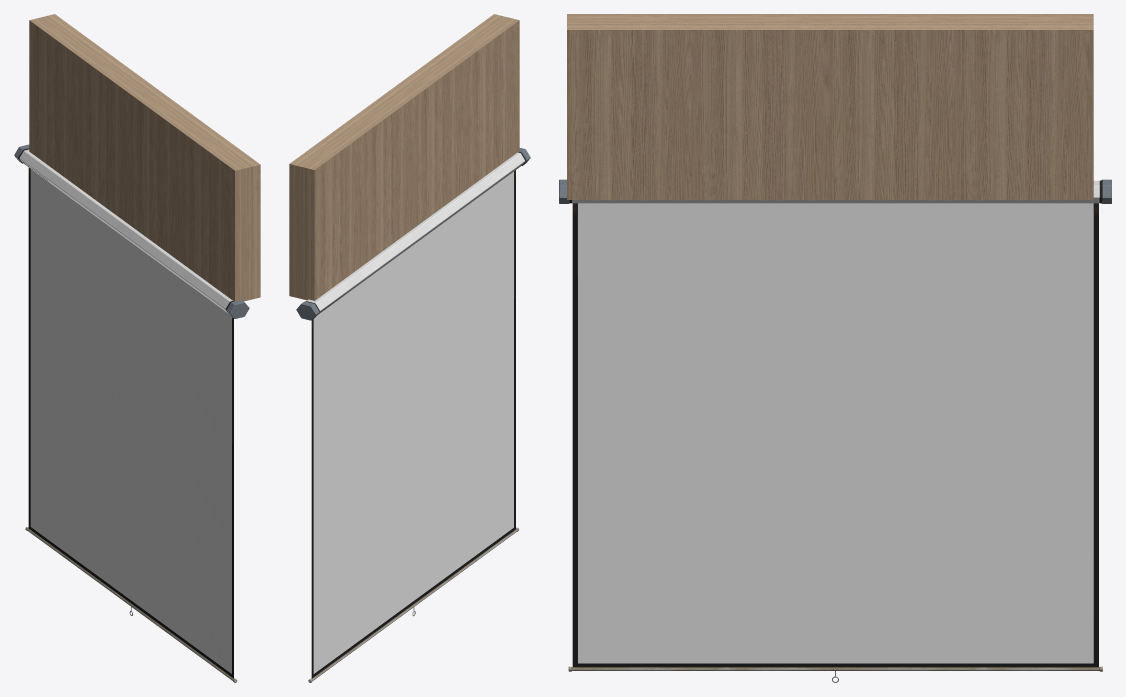
The model's file is Projector screen.fbx.
The picture shows the model from 3 angles, left to right: view 1: azimuth 30°, elevation 25°; view 2: azimuth 150°, elevation 25°; view 3: azimuth 270°, elevation 25°; orthographic projection. The views are drawn at different scales.
Parts seen in each view (by area): view 1: Remesh, Box001, Cylinder; view 2: Remesh, Box001, Cylinder; view 3: Remesh, Box001, Cylinder.
Part boxes in pixels (x1,y1,x2,y2): Remesh: [25, 168, 237, 682]; Box001: [29, 14, 260, 301]; Cylinder: [14, 144, 249, 318]; Remesh: [308, 170, 519, 682]; Box001: [289, 14, 519, 300]; Cylinder: [296, 148, 530, 320]; Remesh: [568, 203, 1102, 682]; Box001: [567, 14, 1093, 199]; Cylinder: [559, 179, 1111, 203].
Size of the model in its own units: 24.66 by 364 by 273.
